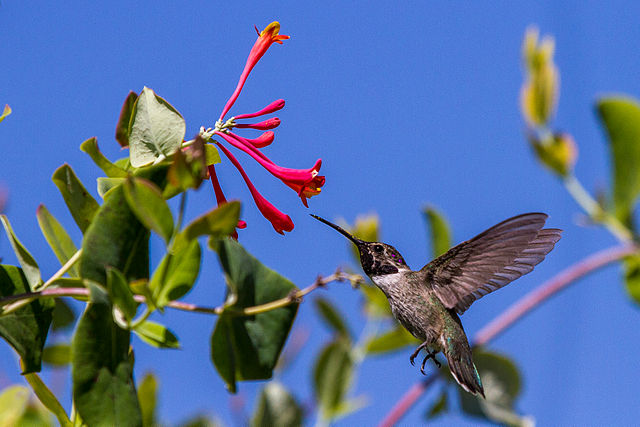calypte costae: (305, 211, 562, 399)
